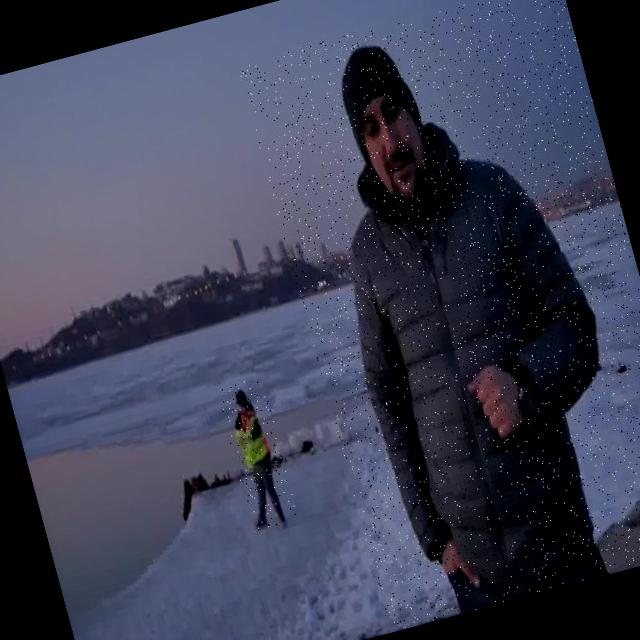no-gloves: (437, 332, 542, 458), (421, 512, 502, 608)
no-helmet: (301, 14, 474, 221), (218, 361, 264, 418)
no-vest: (323, 138, 610, 588)
vest: (230, 405, 273, 475)
